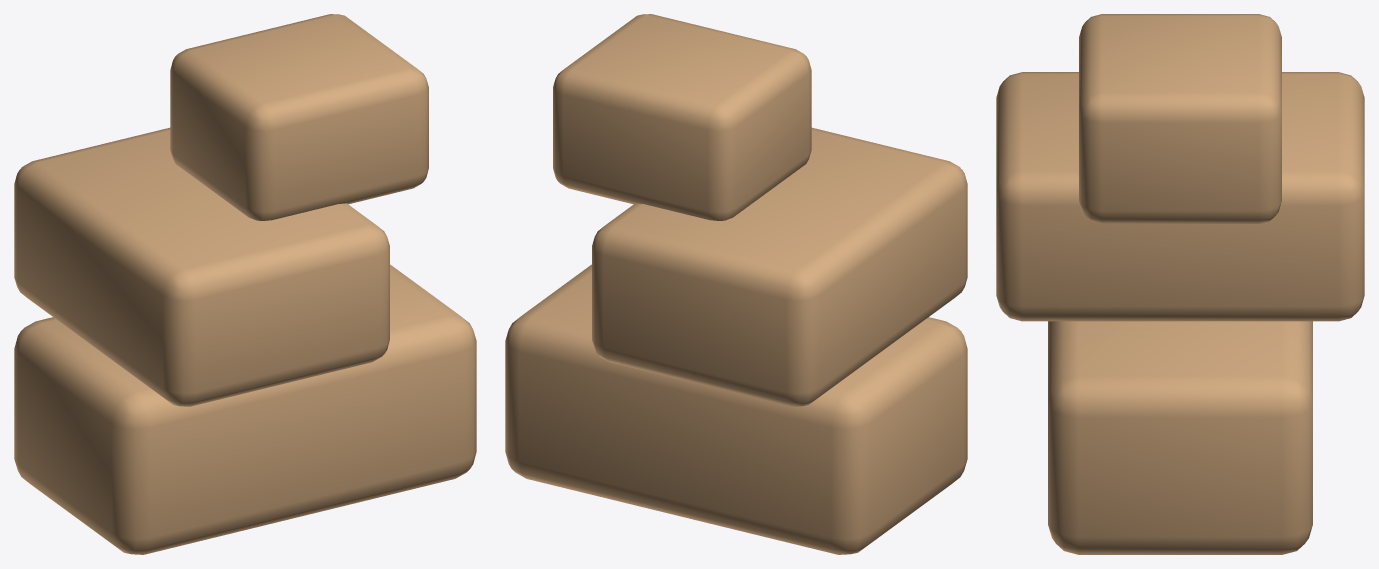
Rendered from parcel-stack.glb.
3 renders of one model, left to right at view 1: azimuth 30°, elevation 25°; view 2: azimuth 150°, elevation 25°; view 3: azimuth 270°, elevation 25°, orthographic. The views are drawn at different scales.
Parts seen in each view (by area): view 1: parcel-0, parcel-1, parcel-2; view 2: parcel-0, parcel-1, parcel-2; view 3: parcel-0, parcel-1, parcel-2.
Part boxes in pixels (bbox=[...]): parcel-0: bbox=[14, 264, 476, 554]; parcel-1: bbox=[14, 127, 389, 406]; parcel-2: bbox=[170, 14, 428, 220]; parcel-0: bbox=[505, 264, 967, 554]; parcel-1: bbox=[592, 127, 967, 406]; parcel-2: bbox=[553, 14, 811, 220]; parcel-0: bbox=[1048, 321, 1312, 554]; parcel-1: bbox=[996, 72, 1364, 321]; parcel-2: bbox=[1079, 14, 1281, 223].
Bounding box in the file's own units: 0.8 × 0.864 × 0.65.
